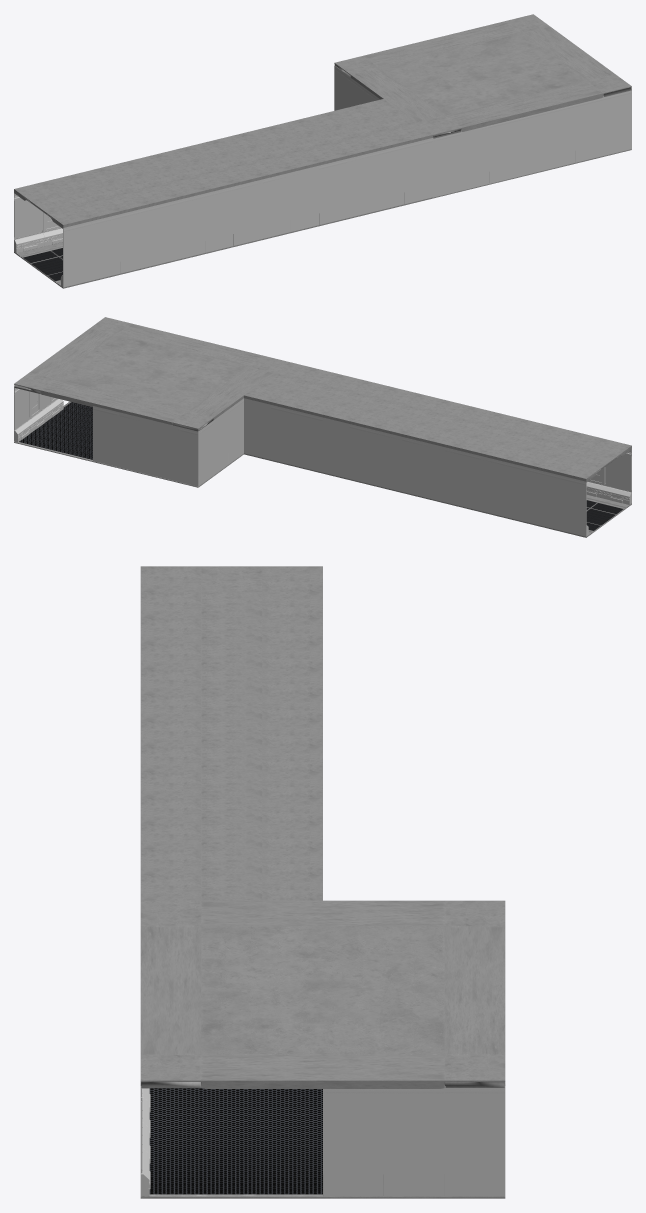
The model's file is Pasillo5OptiOpti.fbx.
3 renders of one model, top to bottom at view 1: azimuth 30°, elevation 25°; view 2: azimuth 150°, elevation 25°; view 3: azimuth 270°, elevation 25°, orthographic. The views are drawn at different scales.
Parts seen in each view (by area): view 1: SM_Ceiling_Center__4_, SM_Wall_AA__12_, SM_Floor_Center__12_; view 2: SM_Ceiling_Center__4_, SM_Wall_AA__12_, SM_Floor_Center__12_; view 3: SM_Ceiling_Center__4_, SM_Wall_AA__12_, SM_Floor_Center__12_.
Boxes of the visible parts, bbox=[...] form: SM_Ceiling_Center__4_: bbox=[14, 14, 631, 228]; SM_Wall_AA__12_: bbox=[14, 66, 631, 287]; SM_Floor_Center__12_: bbox=[14, 149, 631, 288]; SM_Ceiling_Center__4_: bbox=[14, 317, 631, 482]; SM_Wall_AA__12_: bbox=[14, 386, 631, 536]; SM_Floor_Center__12_: bbox=[14, 401, 631, 537]; SM_Ceiling_Center__4_: bbox=[140, 566, 505, 1088]; SM_Wall_AA__12_: bbox=[140, 1086, 505, 1196]; SM_Floor_Center__12_: bbox=[140, 1088, 505, 1198].
Size of the model in its own units: 400 by 42.8 by 120.
